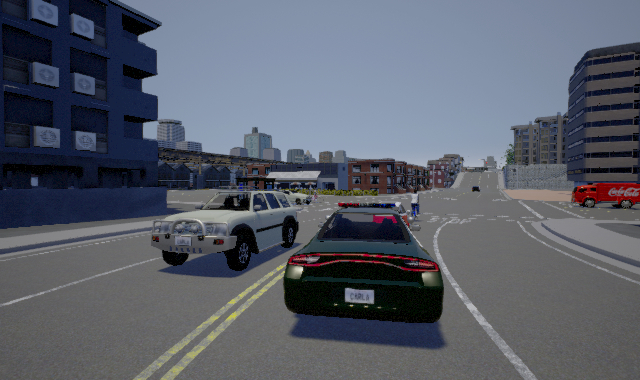bike: (409, 188, 422, 221)
vehicle: (283, 201, 444, 323), (151, 188, 299, 270), (571, 183, 640, 209), (281, 189, 313, 205)
